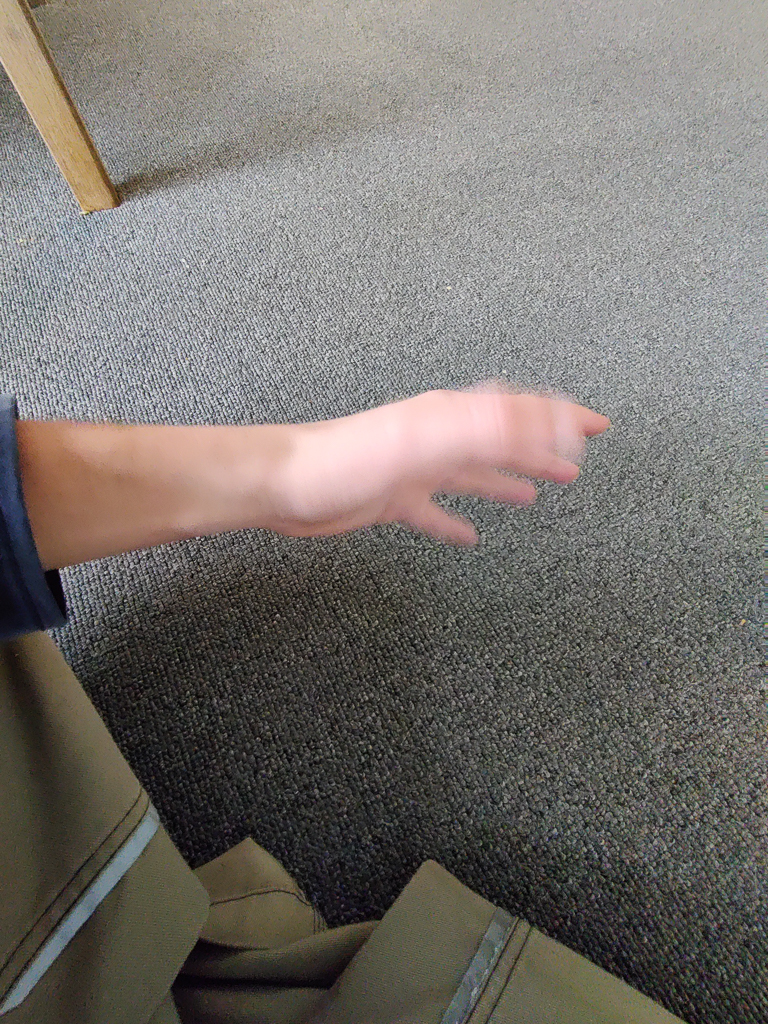Humanoid: (0, 372, 707, 1024)
